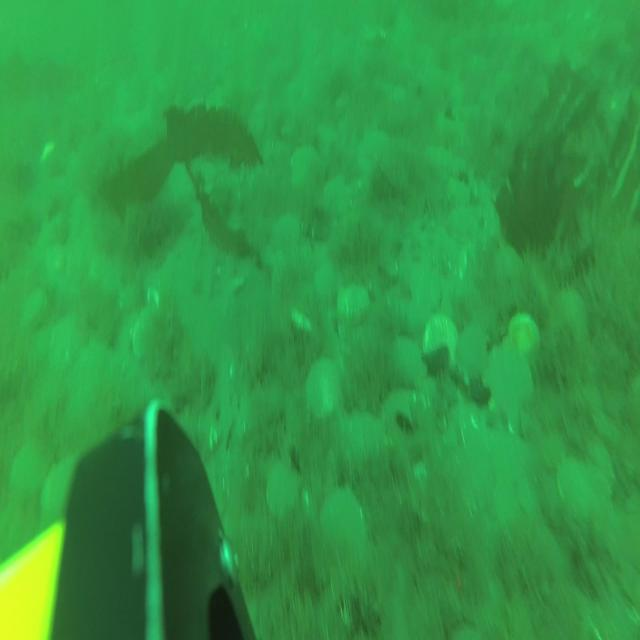scallop: (488, 348, 536, 425), (558, 453, 605, 527), (322, 488, 368, 560), (382, 382, 426, 450), (305, 356, 343, 421), (552, 288, 590, 347), (343, 418, 386, 470), (423, 316, 459, 373), (14, 442, 52, 495), (264, 465, 300, 519), (457, 330, 490, 387), (44, 462, 78, 515), (394, 333, 428, 383), (493, 243, 525, 292), (132, 306, 161, 360), (336, 284, 372, 325), (314, 262, 346, 304), (411, 273, 440, 318), (362, 130, 392, 173), (272, 212, 301, 253), (445, 206, 475, 245), (292, 147, 319, 186), (19, 291, 46, 328), (450, 174, 470, 211)
